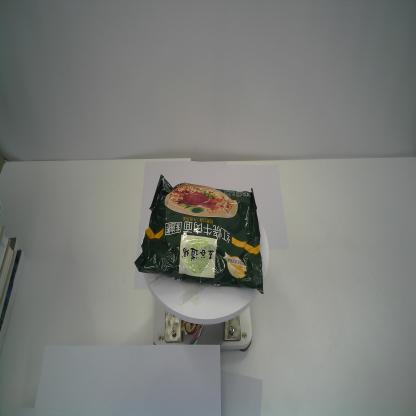Instant Noodles: (134, 172, 266, 298)
